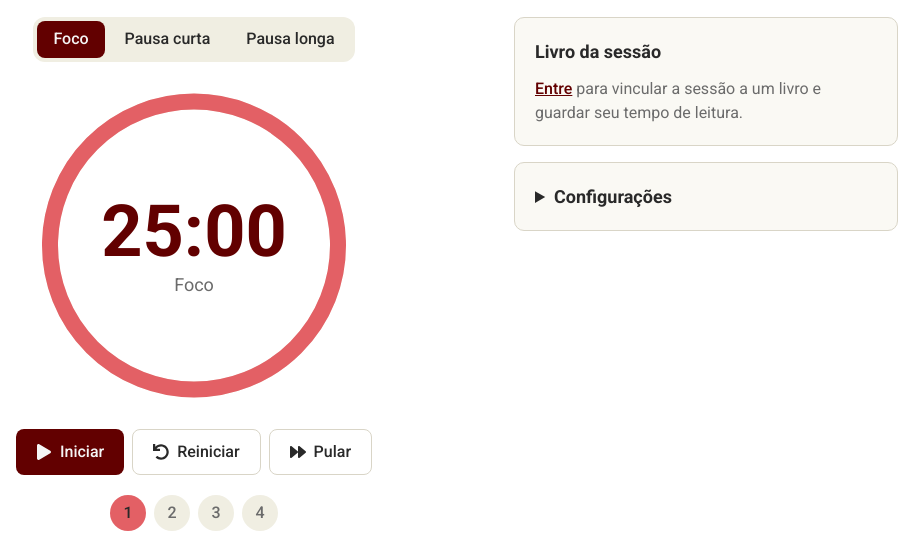
Pomodoro › troca de etapa pelos botões
Click the button "Pausa curta".
click(167, 39)  # box left=109, top=21, right=226, bottom=58
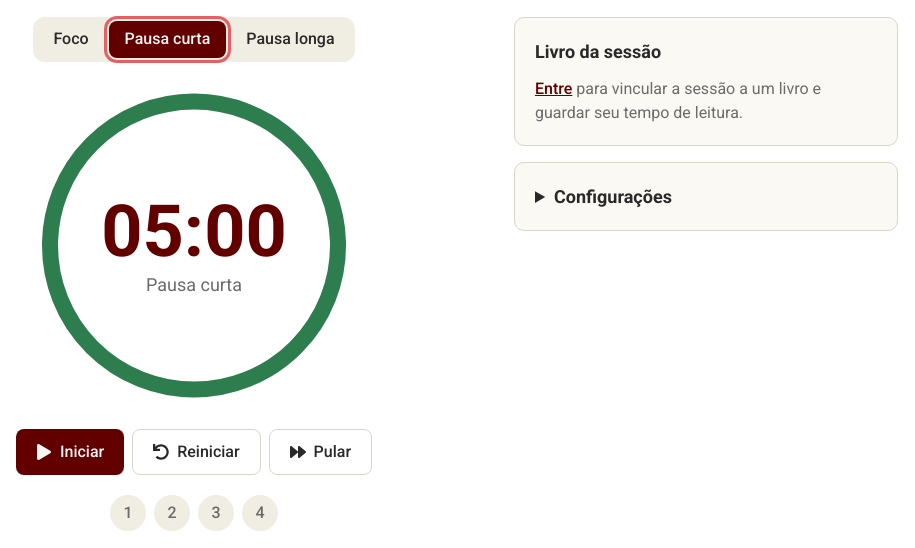
Result: the heading "05:00" is shown at left=101, top=192, right=287, bottom=271
Click the button "Pausa longa".
click(290, 39)  # box left=230, top=21, right=351, bottom=58
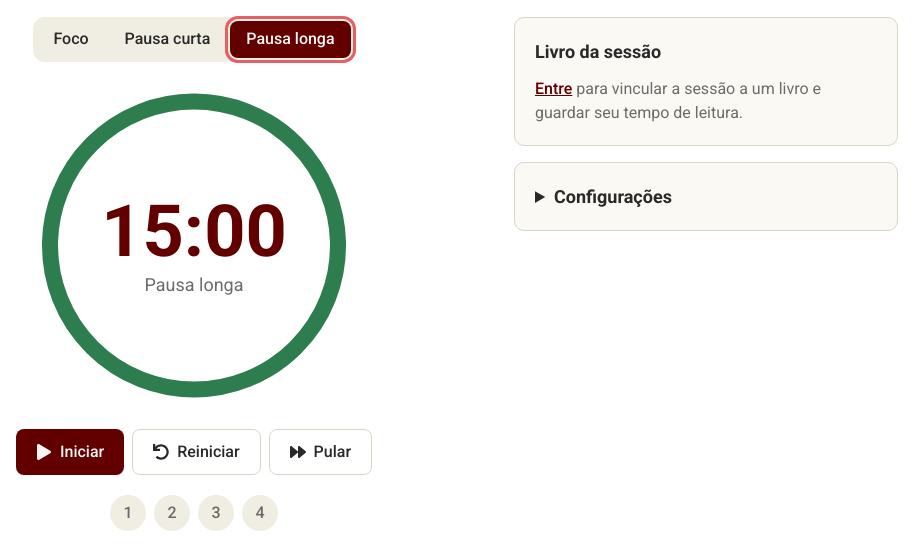
Result: the heading "15:00" is shown at left=101, top=192, right=287, bottom=271
